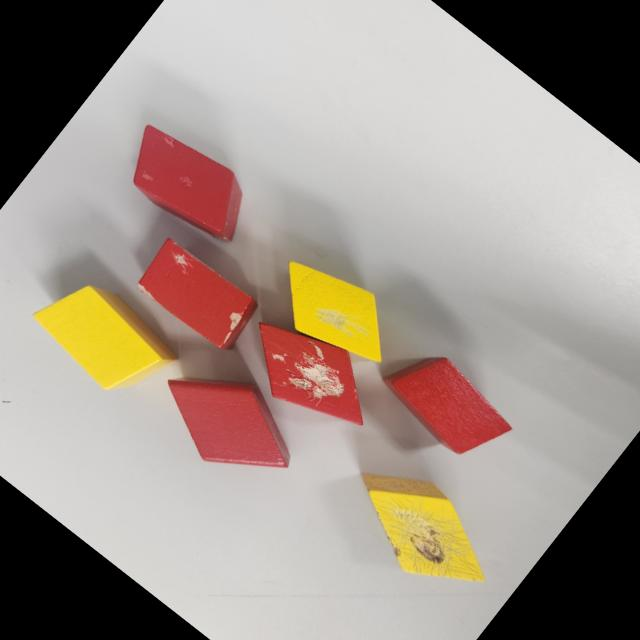broken: (330, 445, 512, 614), (226, 297, 394, 453), (110, 112, 266, 256), (258, 242, 411, 385), (129, 234, 264, 358)
red: (142, 340, 316, 503), (373, 336, 522, 474)
yellow: (24, 262, 188, 416)
